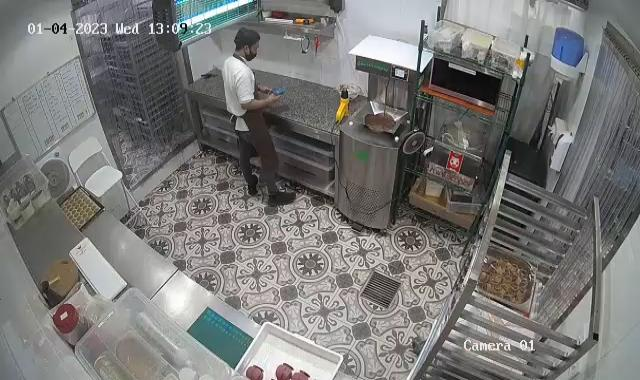no_hairnet: (234, 27, 259, 54)
